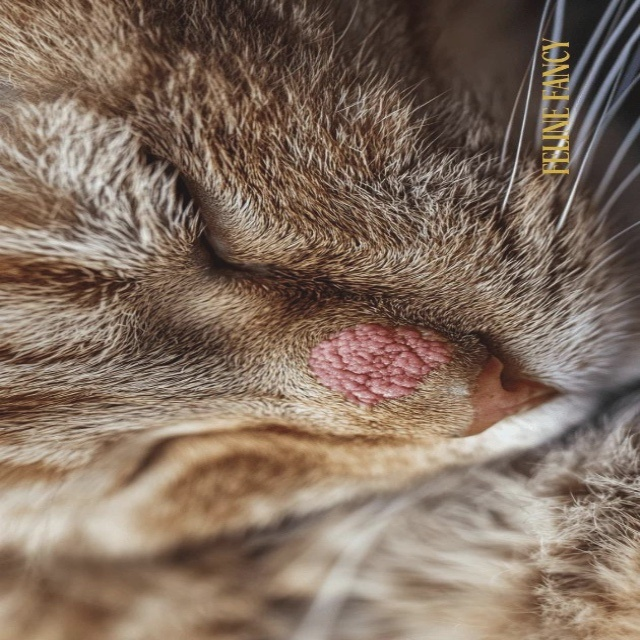lump_and_bump: (306, 325, 454, 401)
